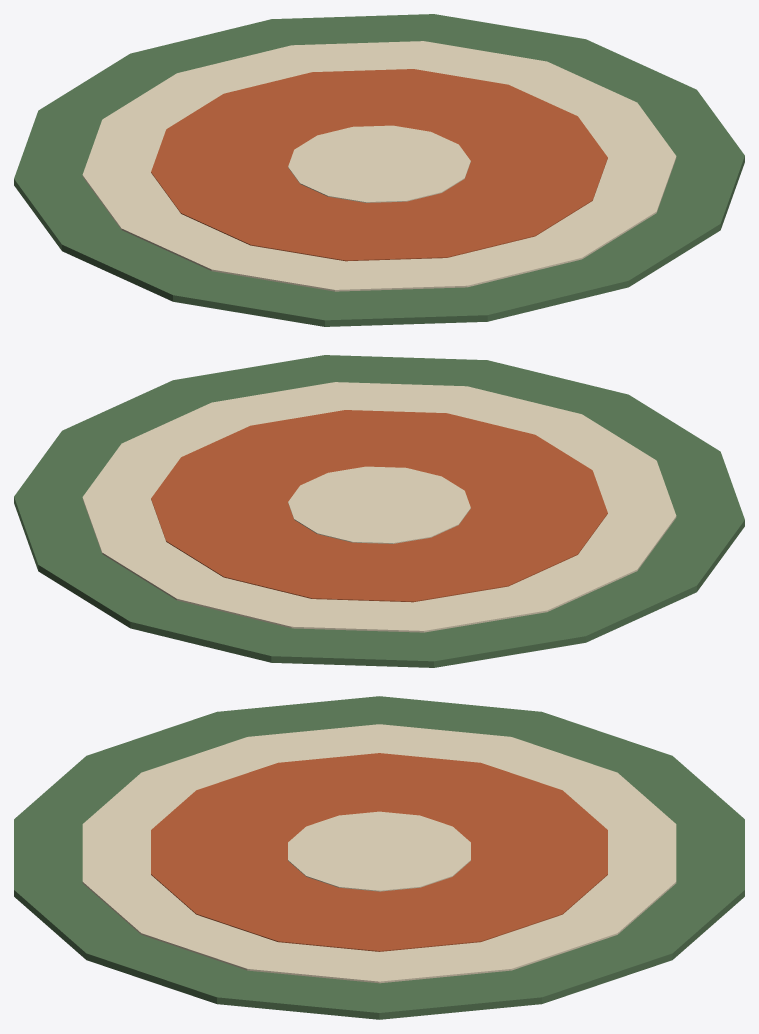
Rendered from GH_Rug_03.glb.
3 views of the same model, one above another, from view 1: azimuth 30°, elevation 25°; view 2: azimuth 150°, elevation 25°; view 3: azimuth 270°, elevation 25° (orthographic). The views are drawn at different scales.
Visible parts, largest first — view 1: GH_Rug_03; view 2: GH_Rug_03; view 3: GH_Rug_03.
Part boxes in pixels (x1=…): GH_Rug_03: x1=14, y1=14, x2=744, y2=326; GH_Rug_03: x1=14, y1=355, x2=744, y2=667; GH_Rug_03: x1=14, y1=696, x2=744, y2=1019.
Size of the model in its own units: 1.6 by 0.024 by 1.56.
1 material, 1 textured.
